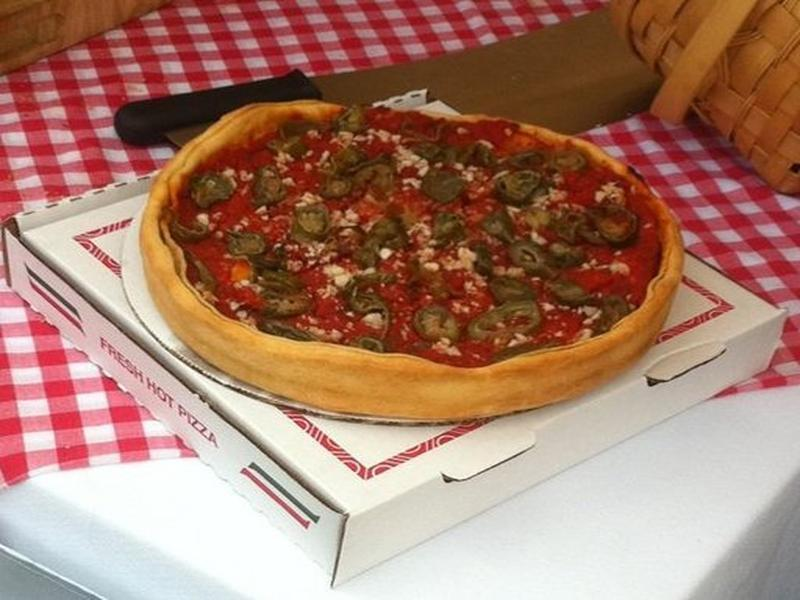pizza: (188, 38, 661, 405)
